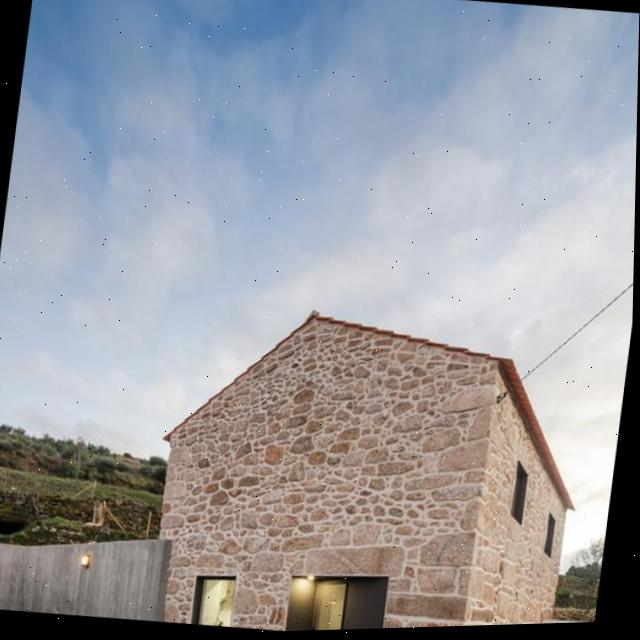building: (144, 286, 598, 635)
